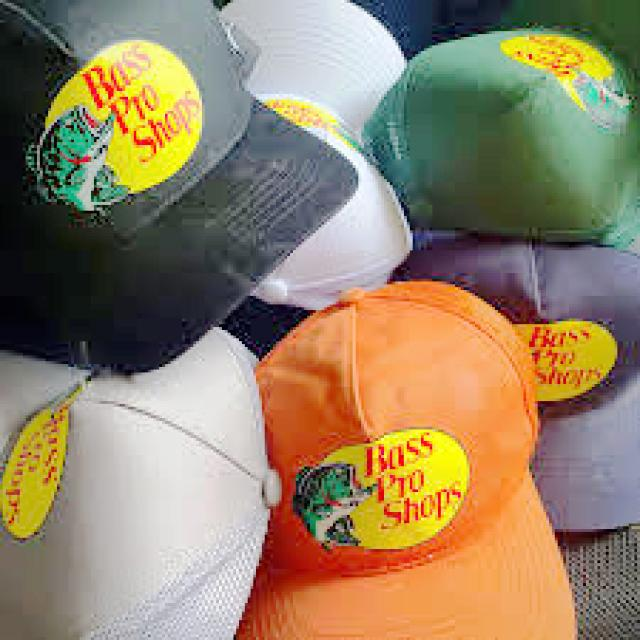TOPI: (0, 0, 361, 381), (236, 273, 583, 634), (3, 324, 276, 637), (387, 230, 634, 535), (196, 0, 410, 310), (344, 26, 632, 236)
